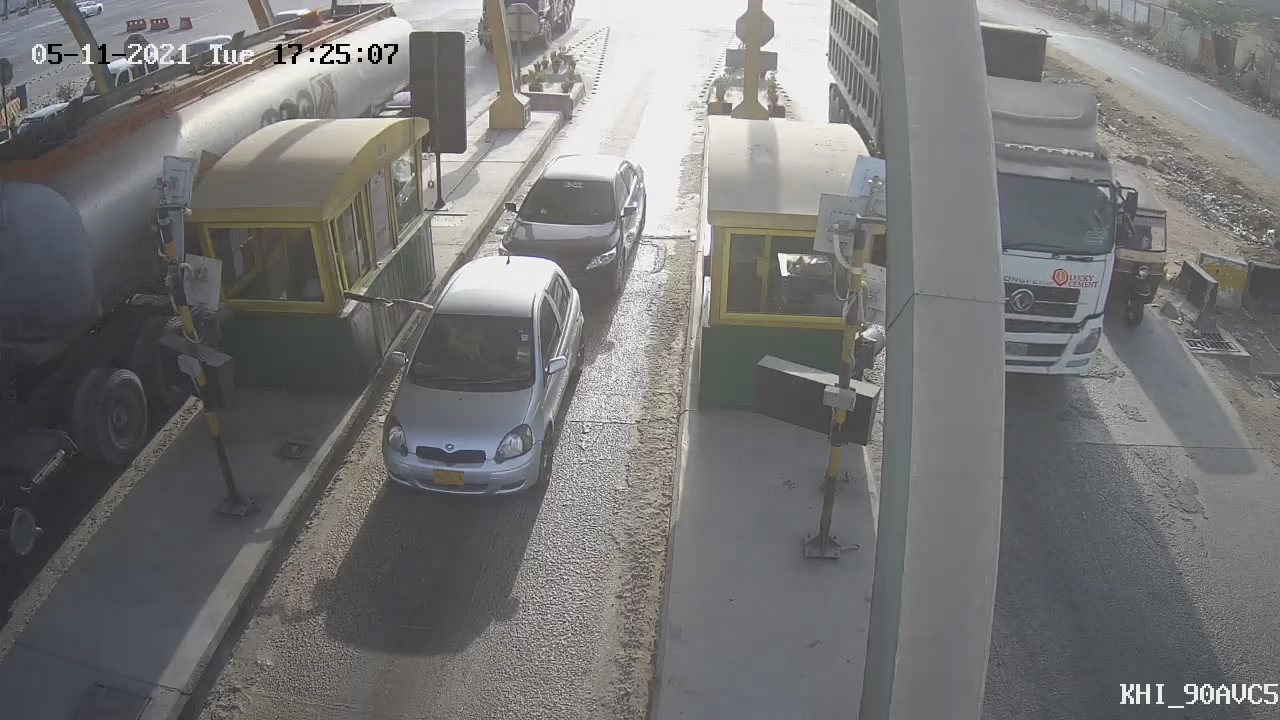F1: (357, 238, 608, 526), (481, 138, 665, 318)
